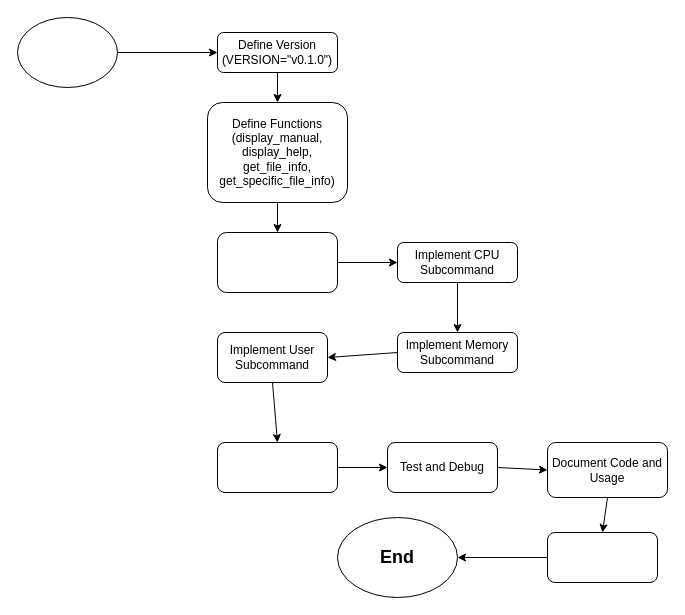
Image size: 685x615. Some labels were removed from this diagram. The shapes that lost their labels are listed below. From the top down, each one's centre as x and y in pixels, then its label:
At (67,52): "Start".
At (277,262): "Main Script Logic".
At (277,467): "Implement File Subcommand".
At (602,557): "Finalize Code".
